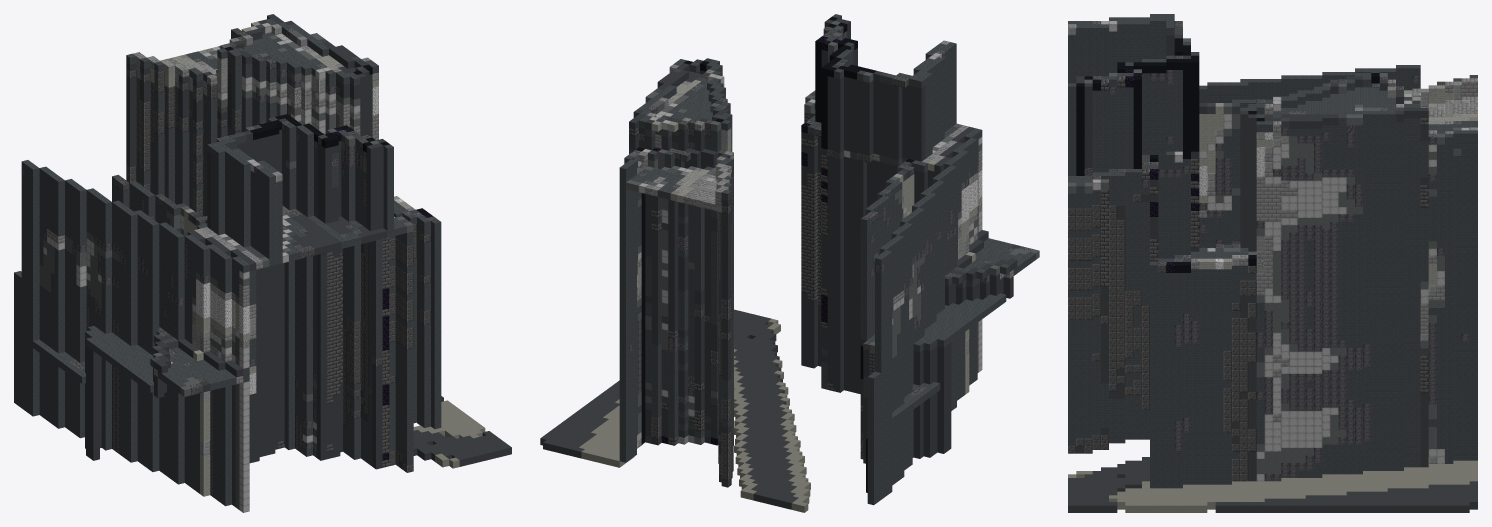
File: tile_0_1.glb
The picture shows the model from 3 angles, left to right: view 1: azimuth 30°, elevation 25°; view 2: azimuth 150°, elevation 25°; view 3: azimuth 270°, elevation 25°; orthographic projection. The views are drawn at different scales.
Visible parts, largest first — view 1: minecraft:gray_wool:west, minecraft:gray_wool:south, minecraft:gray_concrete:south, minecraft:gray_wool:up, minecraft:polished_deepslate:west, minecraft:gray_concrete:west, minecraft:polished_deepslate:south, minecraft:gray_concrete:up, minecraft:basalt:west, minecraft:cyan_terracotta:west, minecraft:deepslate_bricks:south, minecraft:smooth_stone:south (+18 smaller); view 2: minecraft:gray_concrete:north, minecraft:gray_wool:west, minecraft:gray_wool:north, minecraft:gray_concrete:up, minecraft:gray_concrete:west, minecraft:gray_wool:up, minecraft:light_gray_concrete:up, minecraft:deepslate_bricks:north, minecraft:polished_deepslate:north, minecraft:cyan_terracotta:west, minecraft:cyan_terracotta:north, minecraft:black_concrete:north (+18 smaller); view 3: minecraft:gray_wool:east, minecraft:basalt:east, minecraft:polished_deepslate:east, minecraft:gray_concrete:east, minecraft:smooth_stone:east, minecraft:light_gray_concrete:up, minecraft:cyan_terracotta:east, minecraft:gray_wool:up, minecraft:gray_concrete:up, minecraft:black_concrete:east, minecraft:stone_bricks:east, minecraft:deepslate_bricks:east (+10 smaller).
Part boxes in pixels (x1,y1,x2,y2): minecraft:gray_wool:west: [14, 27, 434, 506]; minecraft:gray_wool:south: [33, 27, 441, 506]; minecraft:gray_concrete:south: [93, 31, 511, 469]; minecraft:gray_wool:up: [14, 18, 440, 387]; minecraft:polished_deepslate:west: [115, 34, 424, 472]; minecraft:gray_concrete:west: [85, 16, 485, 469]; minecraft:polished_deepslate:south: [123, 39, 430, 472]; minecraft:gray_concrete:up: [154, 14, 511, 459]; minecraft:basalt:west: [21, 29, 406, 497]; minecraft:cyan_terracotta:west: [39, 32, 366, 509]; minecraft:deepslate_bricks:south: [278, 237, 389, 467]; minecraft:smooth_stone:south: [58, 25, 360, 512]; minecraft:gray_concrete:north: [540, 22, 1009, 509]; minecraft:gray_wool:west: [626, 16, 1035, 504]; minecraft:gray_wool:north: [619, 54, 1006, 505]; minecraft:gray_concrete:up: [541, 18, 1019, 502]; minecraft:gray_concrete:west: [635, 21, 1017, 487]; minecraft:gray_wool:up: [620, 14, 1035, 417]; minecraft:light_gray_concrete:up: [579, 184, 810, 506]; minecraft:deepslate_bricks:north: [629, 29, 874, 445]; minecraft:polished_deepslate:north: [639, 78, 904, 480]; minecraft:cyan_terracotta:west: [634, 34, 1039, 444]; minecraft:cyan_terracotta:north: [626, 44, 996, 444]; minecraft:black_concrete:north: [700, 41, 867, 492]; minecraft:gray_wool:east: [1068, 21, 1477, 488]; minecraft:basalt:east: [1109, 70, 1469, 481]; minecraft:polished_deepslate:east: [1068, 103, 1264, 481]; minecraft:gray_concrete:east: [1068, 35, 1477, 512]; minecraft:smooth_stone:east: [1092, 24, 1444, 481]; minecraft:light_gray_concrete:up: [1068, 114, 1477, 505]; minecraft:cyan_terracotta:east: [1068, 86, 1461, 473]; minecraft:gray_wool:up: [1068, 14, 1477, 265]; minecraft:gray_concrete:up: [1068, 34, 1477, 505]; minecraft:black_concrete:east: [1076, 52, 1379, 272]; minecraft:stone_bricks:east: [1191, 81, 1477, 421]; minecraft:deepslate_bricks:east: [1101, 79, 1428, 393].
Size of the model in its own units: 50 by 49 by 50.
Materials: 115 (115 with a texture image).
